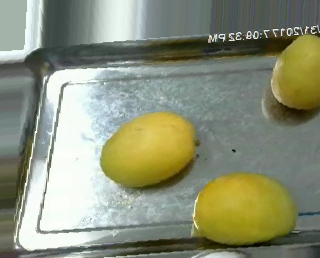Mango: (94, 104, 197, 190), (190, 167, 299, 243), (269, 33, 320, 117)
